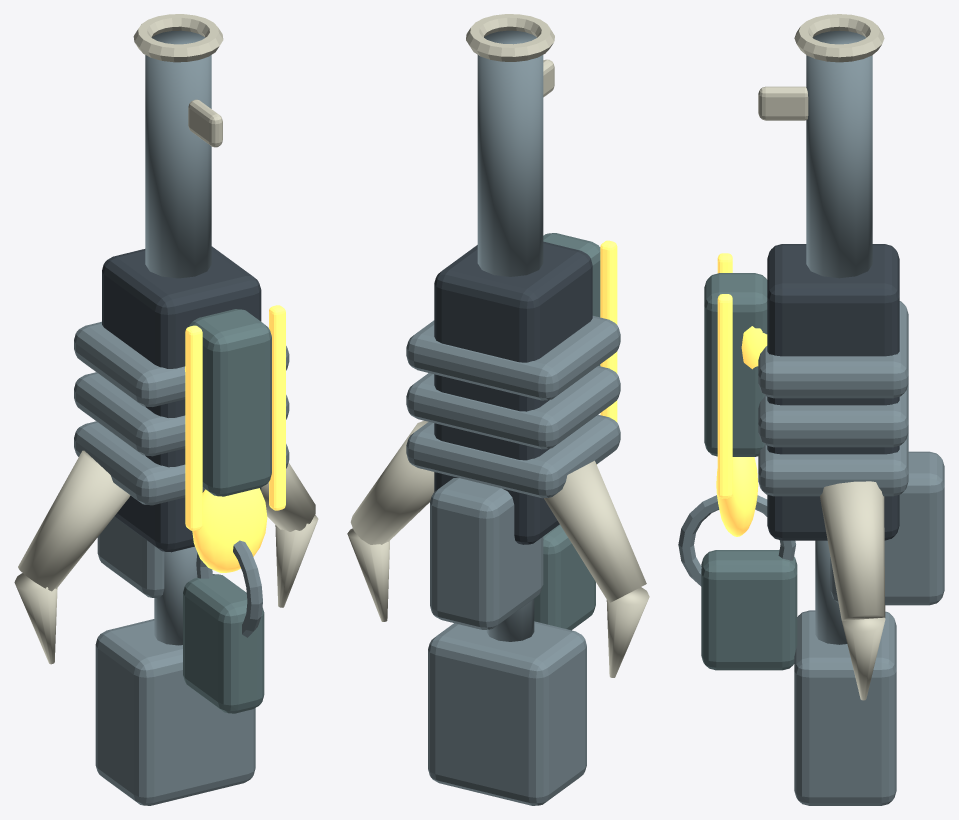
File: YK_01_SoulRifle_Weapon_E03.glb
3 views of the same model, side by side, from view 1: azimuth 30°, elevation 25°; view 2: azimuth 150°, elevation 25°; view 3: azimuth 270°, elevation 25° (orthographic).
Parts seen in each view (by area): view 1: SM_YK_01_SoulRifle_Weapon_P00, SM_YK_01_SoulRifle_Weapon_P01, SM_YK_01_SoulRifle_Weapon_P02, SM_YK_01_SoulRifle_Weapon_P03; view 2: SM_YK_01_SoulRifle_Weapon_P00, SM_YK_01_SoulRifle_Weapon_P01, SM_YK_01_SoulRifle_Weapon_P02, SM_YK_01_SoulRifle_Weapon_P03; view 3: SM_YK_01_SoulRifle_Weapon_P00, SM_YK_01_SoulRifle_Weapon_P01, SM_YK_01_SoulRifle_Weapon_P02, SM_YK_01_SoulRifle_Weapon_P03.
Boxes of the visible parts, <box> form: SM_YK_01_SoulRifle_Weapon_P00: <box>95,14,271,805</box>; SM_YK_01_SoulRifle_Weapon_P01: <box>74,321,289,505</box>; SM_YK_01_SoulRifle_Weapon_P02: <box>14,450,318,664</box>; SM_YK_01_SoulRifle_Weapon_P03: <box>185,305,285,572</box>; SM_YK_01_SoulRifle_Weapon_P00: <box>428,14,600,805</box>; SM_YK_01_SoulRifle_Weapon_P01: <box>406,316,620,498</box>; SM_YK_01_SoulRifle_Weapon_P02: <box>347,420,649,677</box>; SM_YK_01_SoulRifle_Weapon_P03: <box>596,240,617,464</box>; SM_YK_01_SoulRifle_Weapon_P00: <box>678,14,944,805</box>; SM_YK_01_SoulRifle_Weapon_P01: <box>758,301,908,496</box>; SM_YK_01_SoulRifle_Weapon_P02: <box>820,481,885,700</box>; SM_YK_01_SoulRifle_Weapon_P03: <box>716,253,758,536</box>.
Size of the model in its own units: 0.5721 by 1.38 by 0.443.
